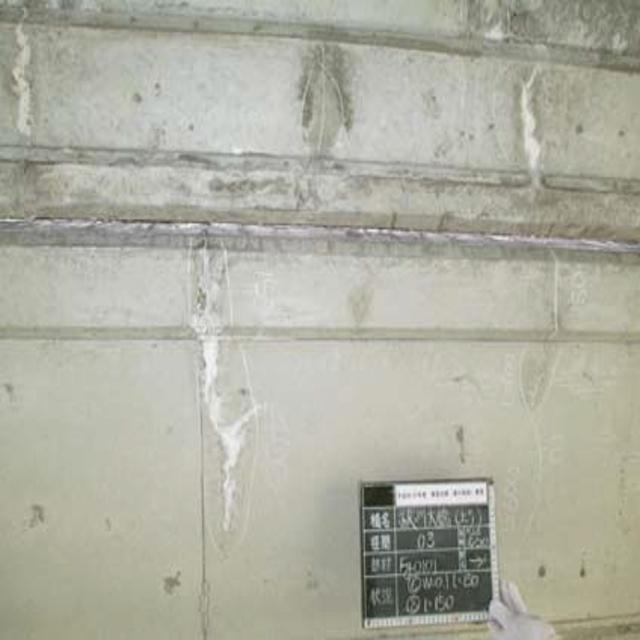freelime: (190, 237, 266, 526), (504, 69, 552, 187)
